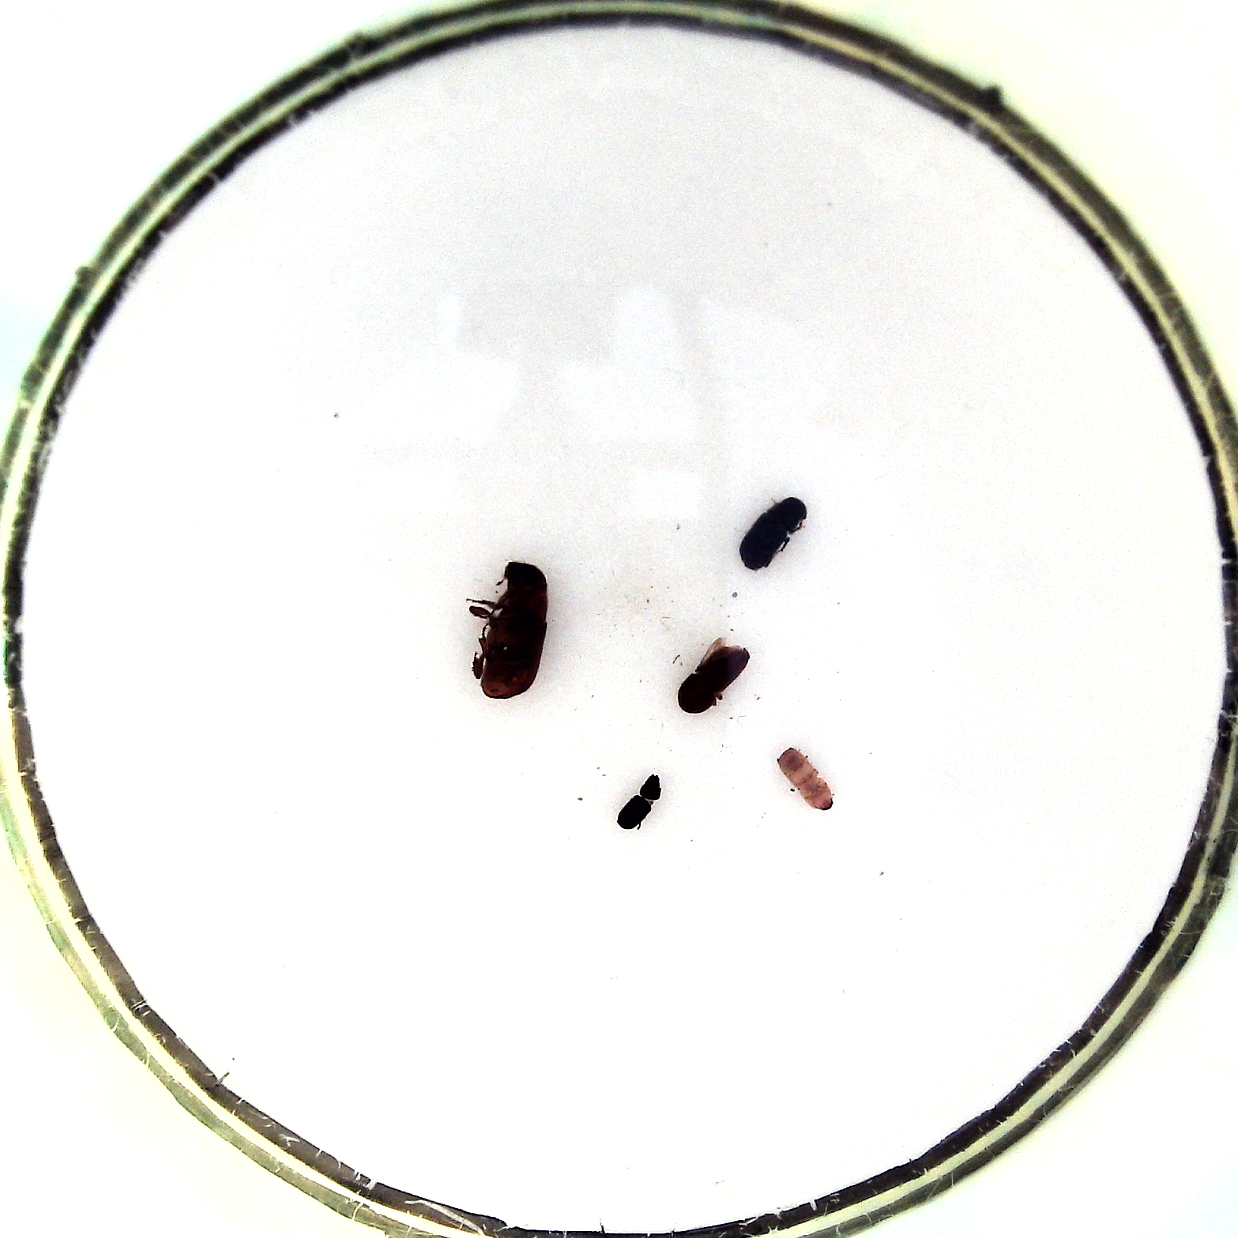Leconte: (459, 557, 552, 699)
Linnaeus: (672, 634, 757, 713)
acuminatus: (775, 743, 837, 816)
armandi: (736, 493, 811, 573)
coleoptera: (614, 770, 667, 831)
